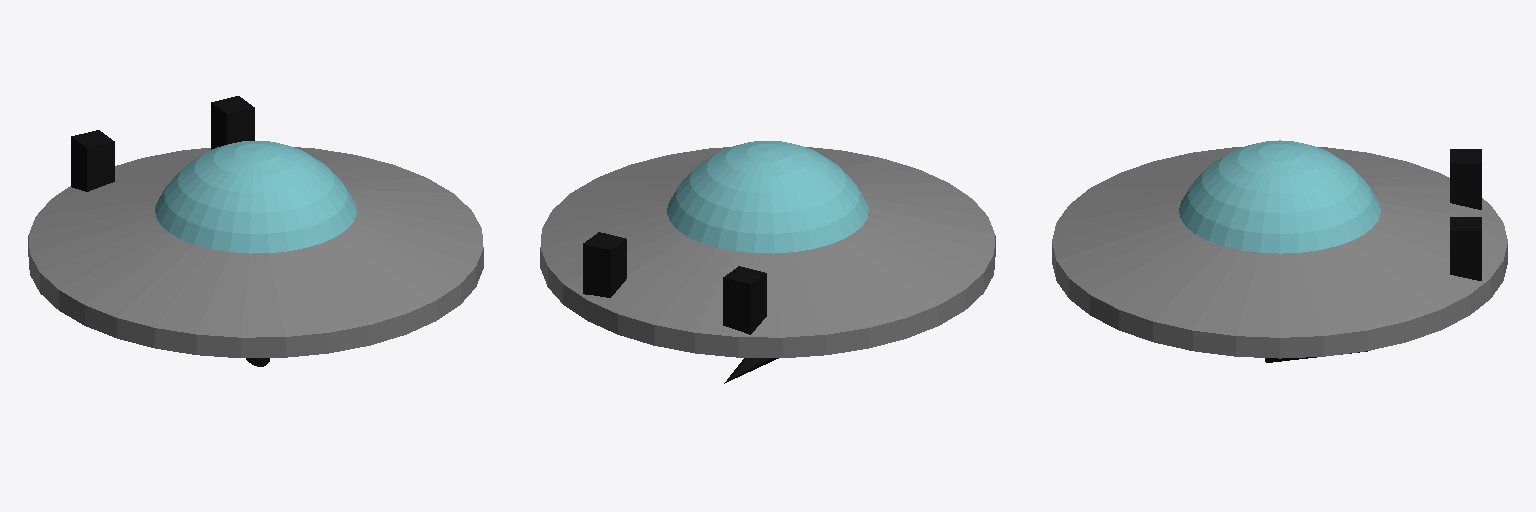
The model's file is ship.obj.
3 renders of one model, left to right at view 1: azimuth 30°, elevation 25°; view 2: azimuth 150°, elevation 25°; view 3: azimuth 270°, elevation 25°, orthographic.
Parts seen in each view (by area): view 1: Ship_Cone; view 2: Ship_Cone; view 3: Ship_Cone.
Part boxes in pixels (bbox=[...]): Ship_Cone: bbox=[28, 96, 483, 366]; Ship_Cone: bbox=[540, 141, 995, 383]; Ship_Cone: bbox=[1052, 140, 1507, 362].
Size of the model in its own units: 2 by 1.02 by 2.